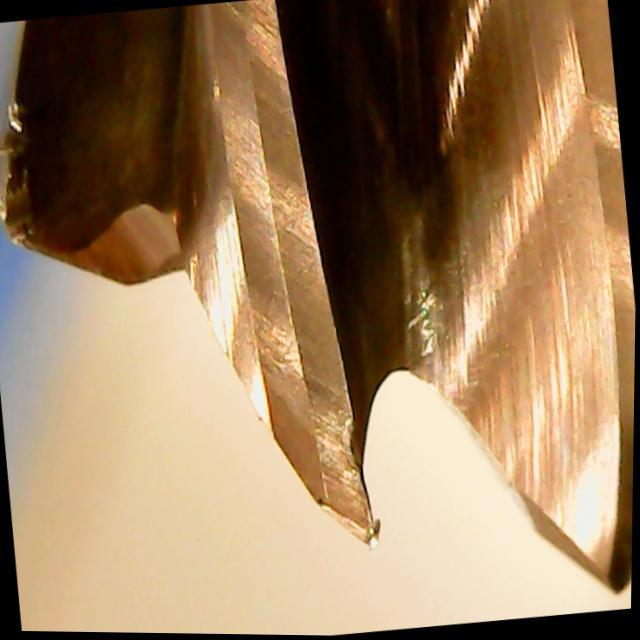Tool-wear-class-1: (251, 317, 400, 558)
